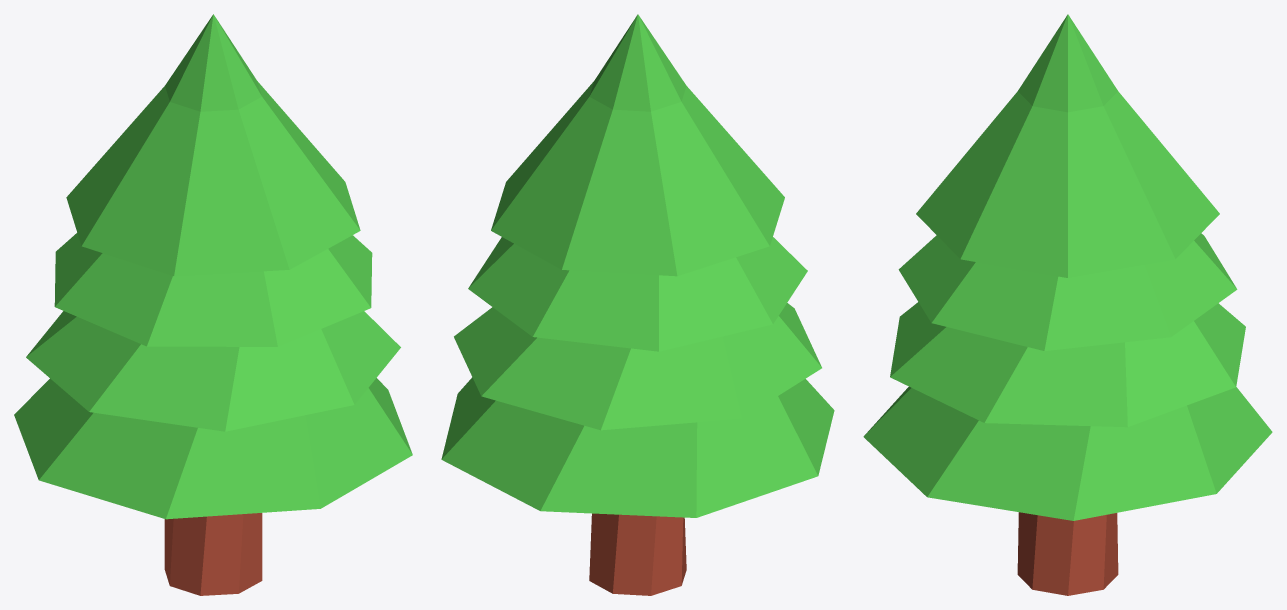
Rendered from tree.fbx.
3 views of the same model, side by side, from view 1: azimuth 30°, elevation 25°; view 2: azimuth 150°, elevation 25°; view 3: azimuth 270°, elevation 25° (orthographic).
Parts seen in each view (by area): view 1: Circle; view 2: Circle; view 3: Circle.
Boxes of the visible parts, box(x1,y1,x2,y2) form: Circle: box(14, 14, 412, 595); Circle: box(441, 14, 834, 595); Circle: box(863, 14, 1272, 595).
Bounding box in the file's own units: 121 × 182 × 121.
